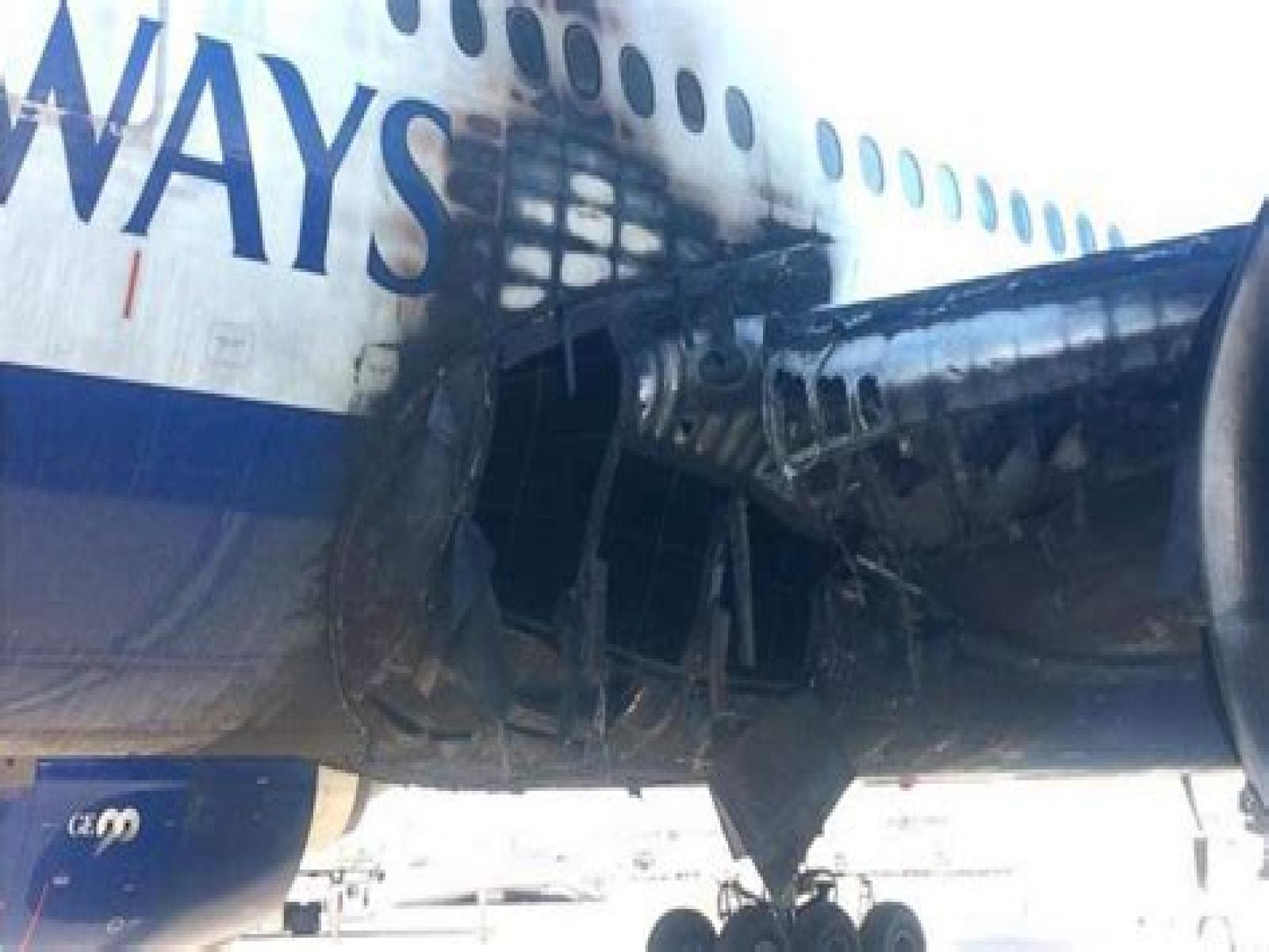Fuselage_damage: (503, 107, 712, 304)
Wing_damage: (635, 261, 1221, 655), (635, 293, 1205, 562), (701, 633, 1232, 888), (709, 555, 918, 902), (477, 329, 618, 623), (418, 515, 533, 730), (605, 458, 715, 659), (755, 501, 825, 680)
